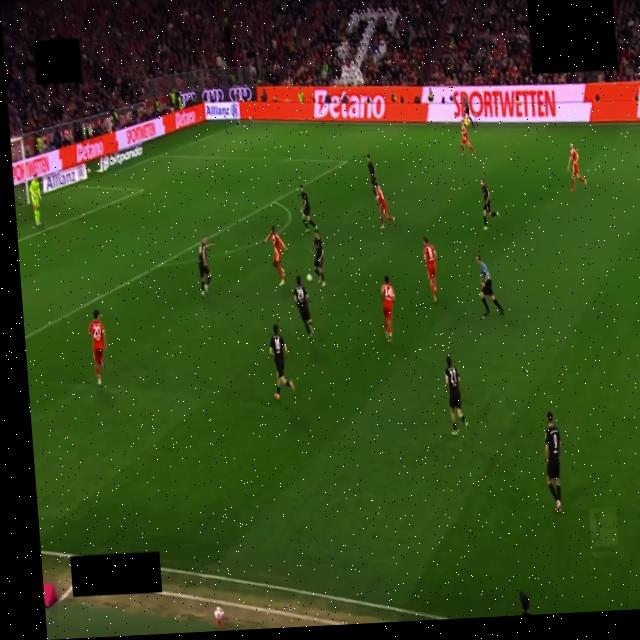ball: (307, 274, 312, 281)
player: (269, 324, 294, 399), (445, 356, 468, 435), (544, 412, 561, 511), (265, 227, 288, 286), (89, 309, 106, 384), (294, 276, 313, 337), (480, 178, 499, 231), (374, 182, 395, 228), (198, 236, 214, 296), (423, 237, 437, 303), (381, 277, 395, 341), (567, 144, 586, 191), (28, 176, 44, 227), (300, 185, 317, 232), (312, 230, 325, 286), (461, 121, 474, 154), (367, 155, 376, 192)
referee: (476, 255, 503, 315)
